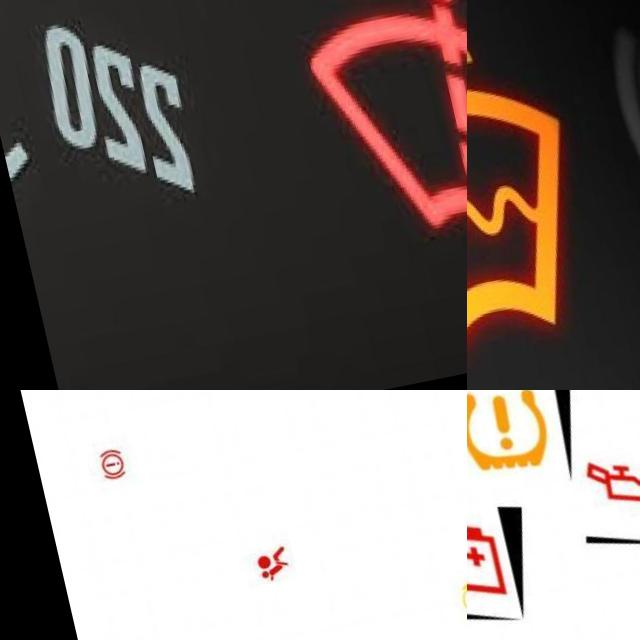Washer Fluid: (271, 0, 467, 312), (467, 19, 587, 382)
